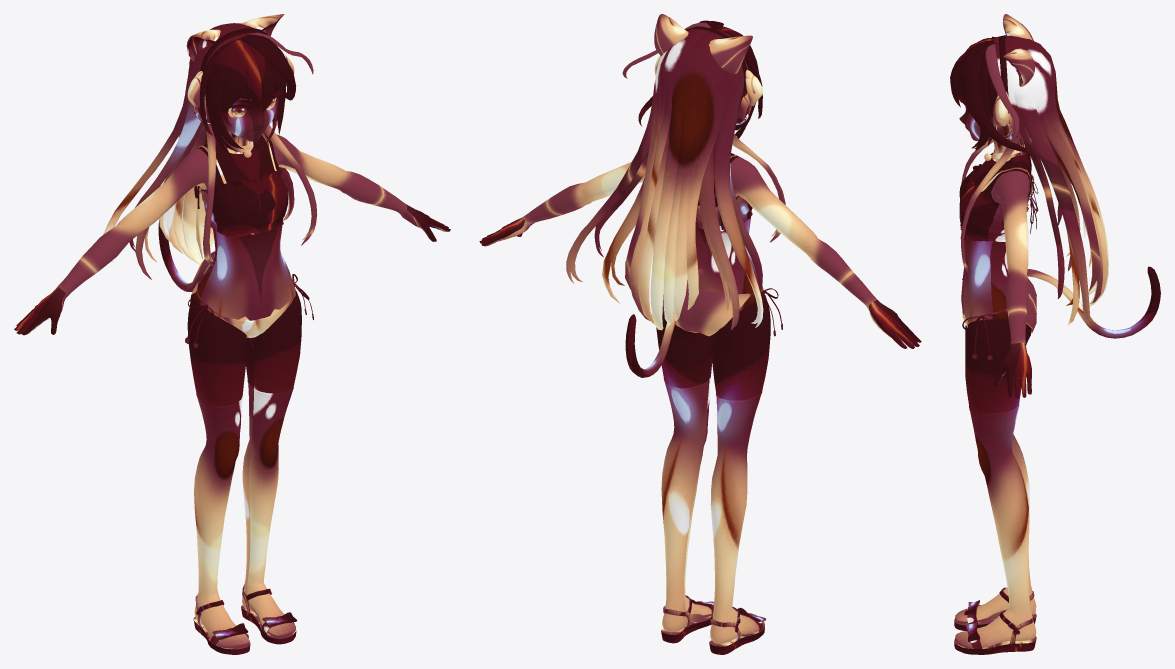
3 views of the same model, side by side, from view 1: azimuth 30°, elevation 25°; view 2: azimuth 150°, elevation 25°; view 3: azimuth 270°, elevation 25° (orthographic). The views are drawn at different scales.
Visible parts, largest first — view 1: kokone_undergarment.mdl.cleaner.materialmerger.gles; view 2: kokone_undergarment.mdl.cleaner.materialmerger.gles; view 3: kokone_undergarment.mdl.cleaner.materialmerger.gles.
Boxes of the visible parts, x1=… form: kokone_undergarment.mdl.cleaner.materialmerger.gles: x1=14, y1=14, x2=450, y2=654; kokone_undergarment.mdl.cleaner.materialmerger.gles: x1=479, y1=14, x2=921, y2=654; kokone_undergarment.mdl.cleaner.materialmerger.gles: x1=950, y1=14, x2=1160, y2=654.
Size of the model in its own units: 1.25 by 1.67 by 0.5307.
1 material, 1 textured.
